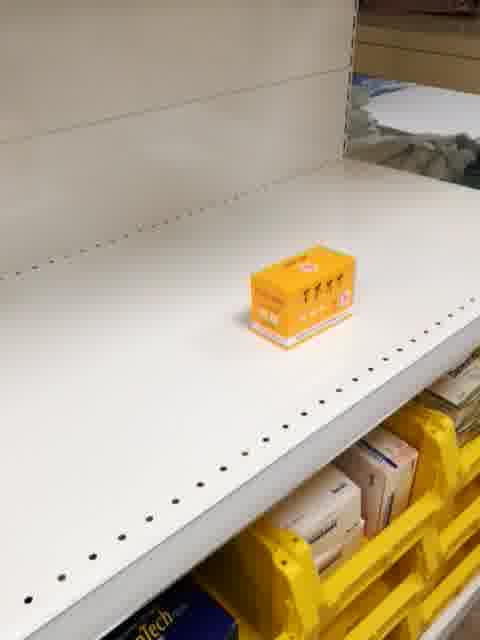jasminetea: (248, 240, 356, 354)
